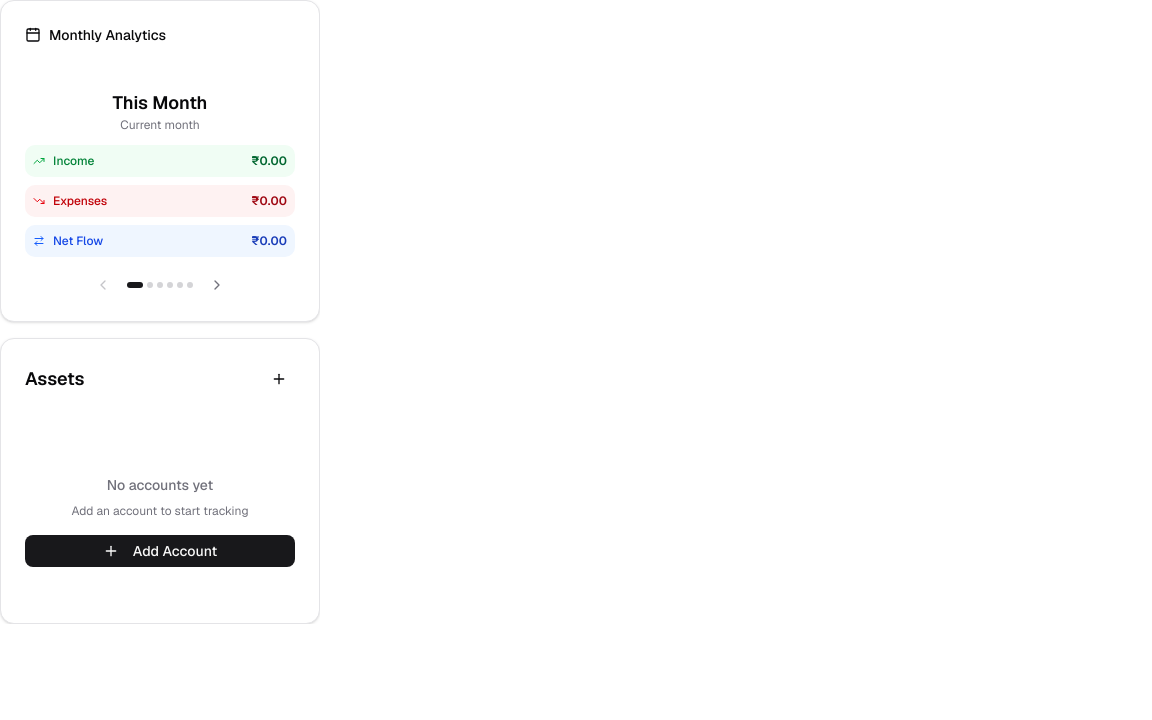
Test: AccountsAnalyticsSidepanel › invites the user to add a first account
Check: the text "No accounts yet" is shown, box [107,476,213,494]
Check: the text "Add an account to start tracking" is shown, box [72,503,249,519]
What coordinates should you click on to do the following:
click the button "Add Account"
I would click on:
 (160, 551)
Its box is [25,535,295,567].
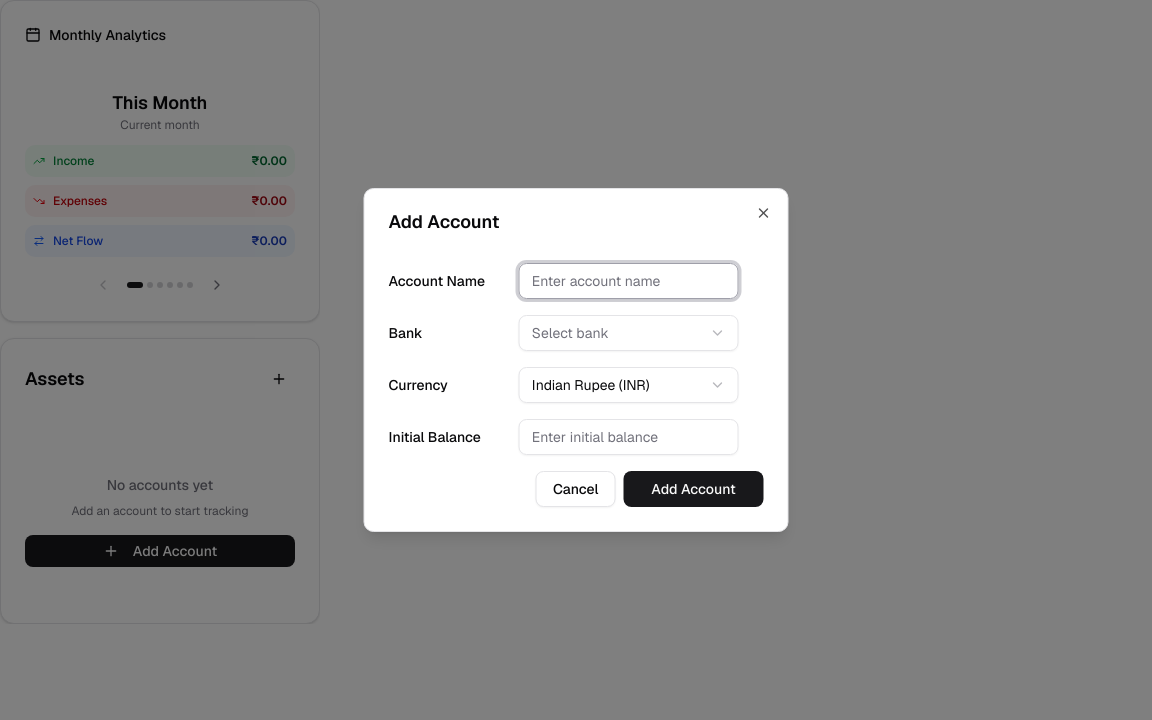
Check: the dialog is shown, box [364,188,788,532]
